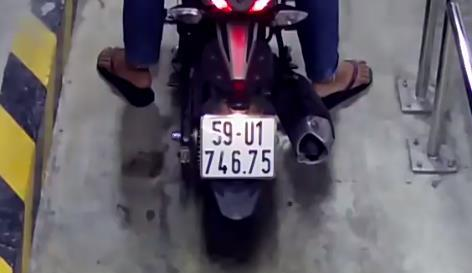lisence: (200, 114, 277, 179)
